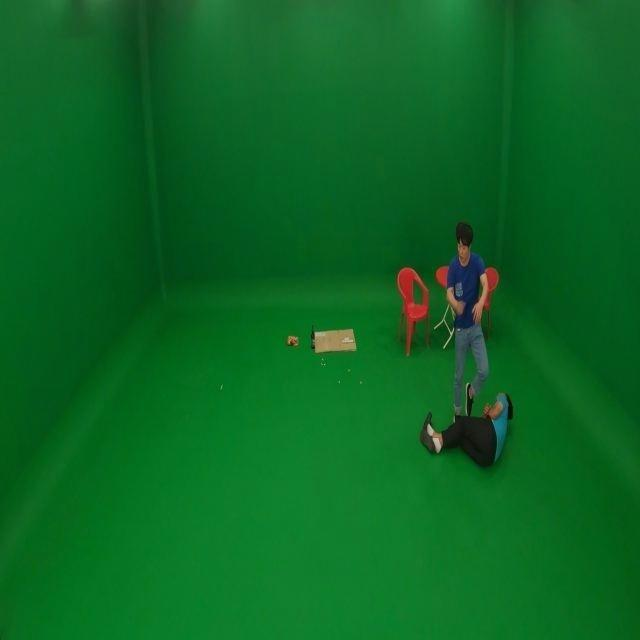fight: (400, 218, 520, 470)
